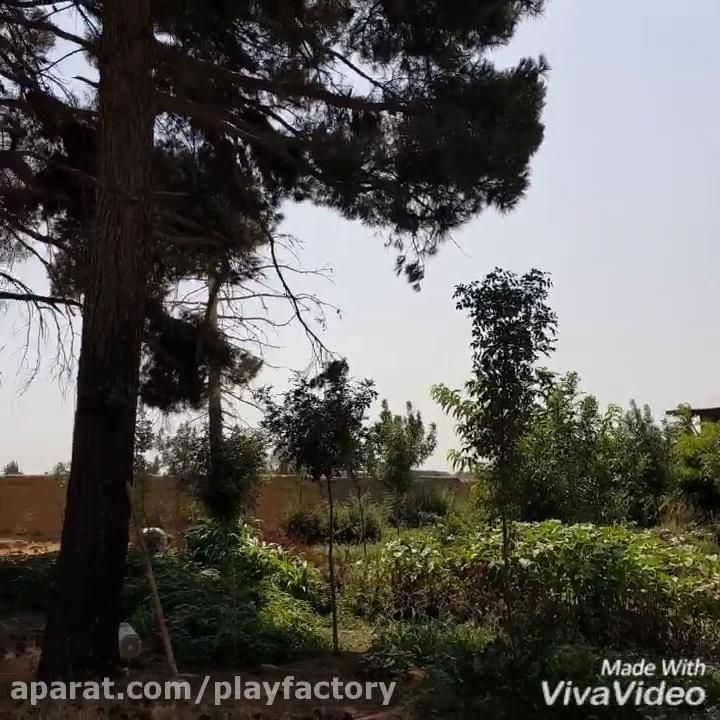drone: (313, 311, 324, 323)
